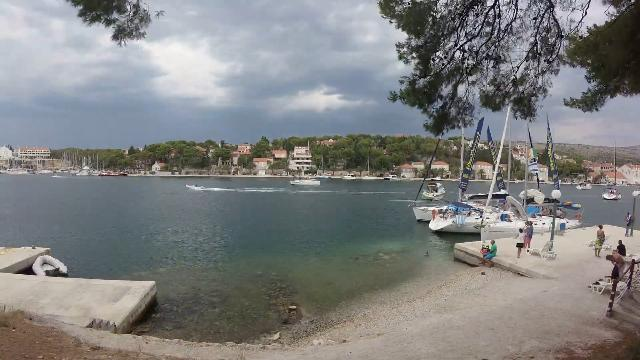Sailboat: (288, 174, 322, 188)
ferry: (419, 179, 449, 203)
speedboat: (183, 182, 209, 192)
